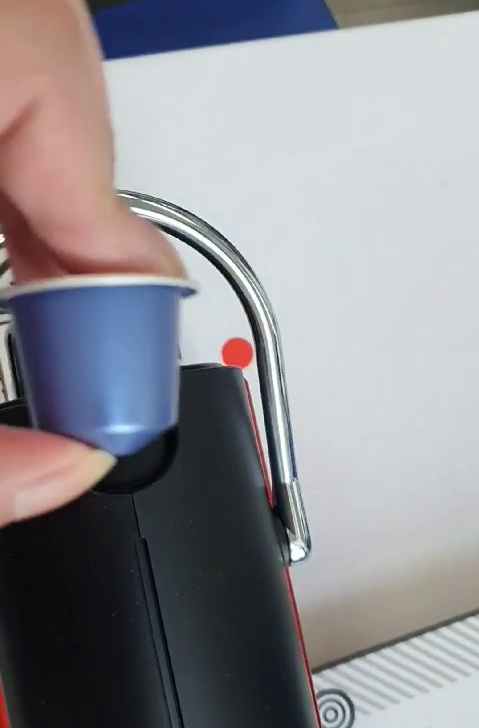capsule_7: (1, 275, 202, 464)
